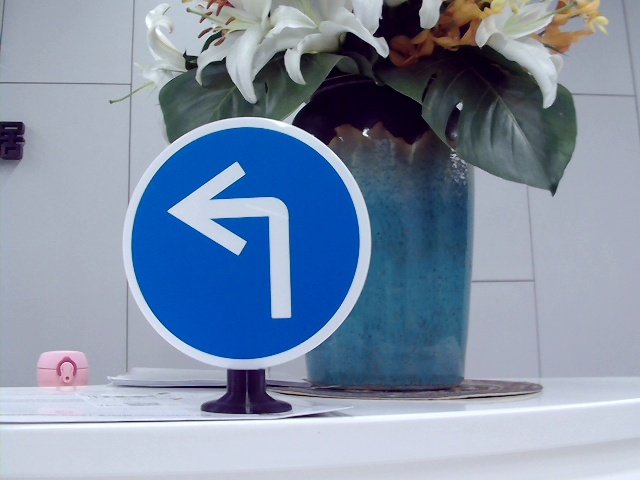turn_left: (168, 160, 315, 321)
